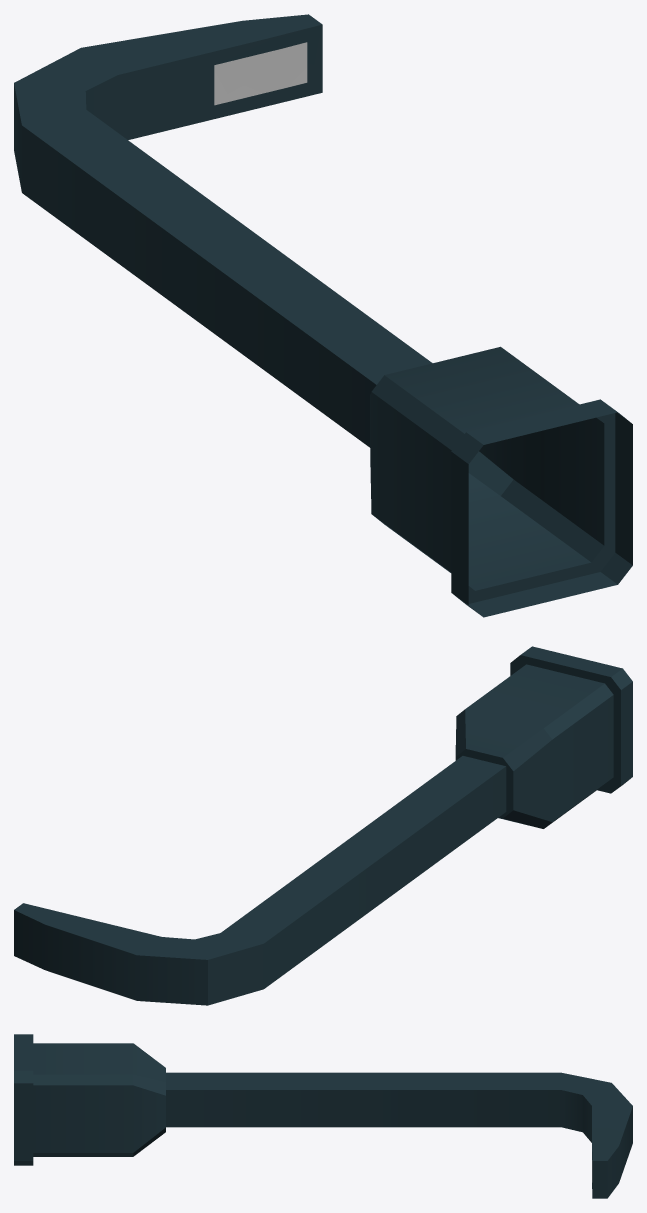
The model's file is Lamp 01.FBX.
3 views of the same model, one above another, from view 1: azimuth 30°, elevation 25°; view 2: azimuth 150°, elevation 25°; view 3: azimuth 270°, elevation 25° (orthographic). The views are drawn at different scales.
Visible parts, largest first — view 1: Lamp 01; view 2: Lamp 01; view 3: Lamp 01.
Boxes of the visible parts, bbox=[...] form: Lamp 01: bbox=[14, 14, 632, 617]; Lamp 01: bbox=[14, 646, 632, 1005]; Lamp 01: bbox=[14, 1034, 632, 1198].
Size of the model in its own units: 131 by 57.13 by 337.
Materials: 1 (1 with a texture image).
